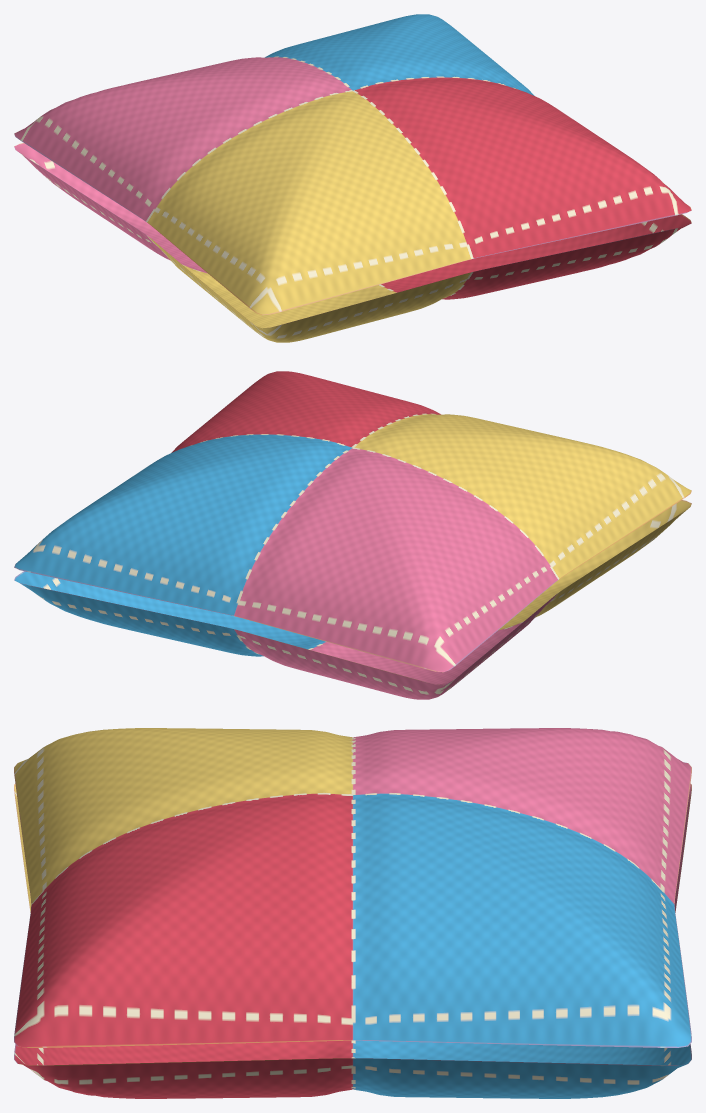
Rendered from cushion.glb.
The picture shows the model from 3 angles, top to bottom: view 1: azimuth 30°, elevation 25°; view 2: azimuth 150°, elevation 25°; view 3: azimuth 270°, elevation 25°; orthographic projection. The views are drawn at different scales.
Visible parts, largest first — view 1: PatchworkCushion; view 2: PatchworkCushion; view 3: PatchworkCushion.
Boxes of the visible parts, left/top/right/bottom form: PatchworkCushion: left=14, top=14, right=691, bottom=342; PatchworkCushion: left=14, top=371, right=691, bottom=699; PatchworkCushion: left=14, top=728, right=691, bottom=1098.
Size of the model in its own units: 1.06 by 0.4327 by 1.06.
1 material, 1 textured.
